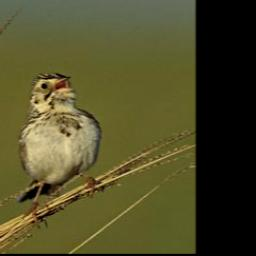Sparrow: (18, 71, 105, 230)
